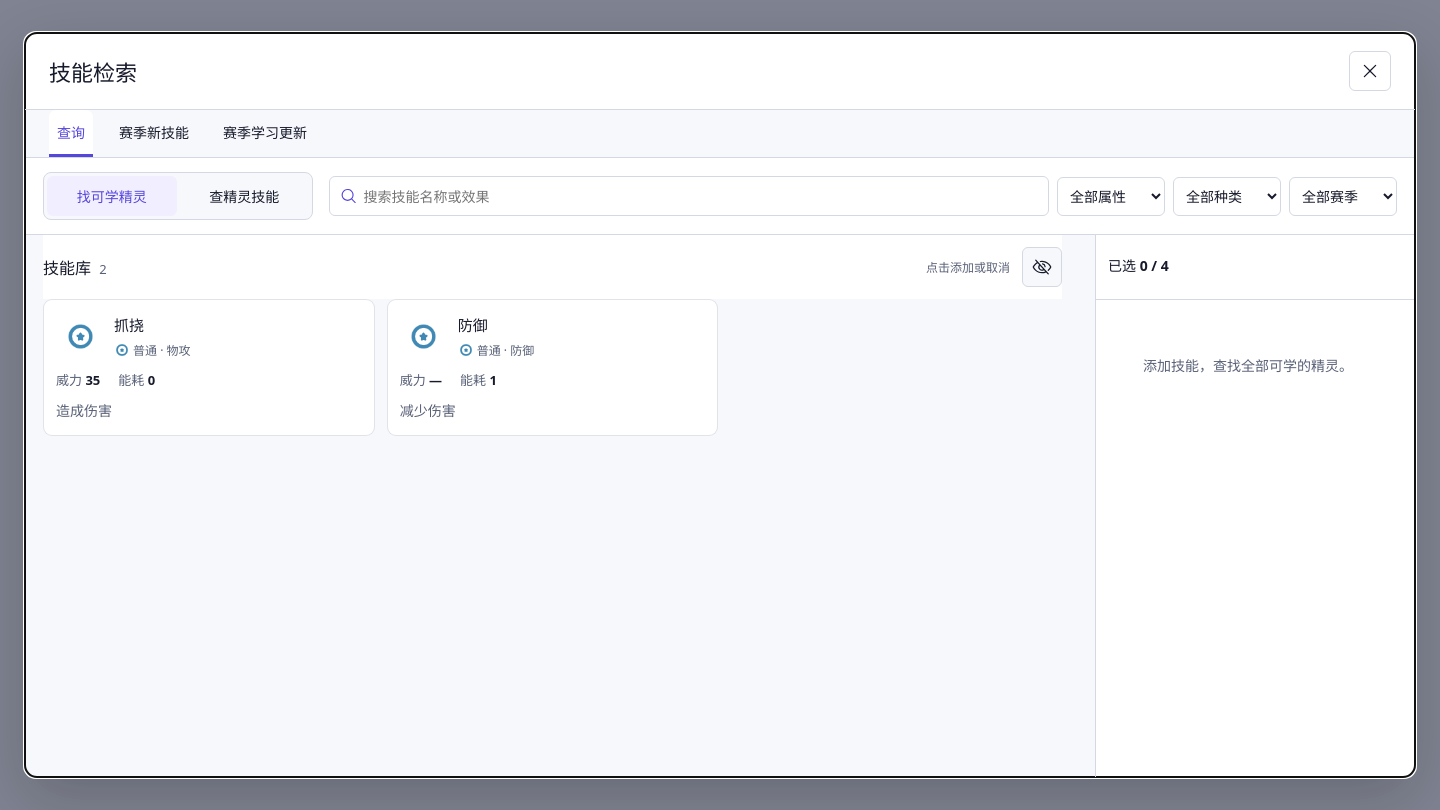
Scenario: 精灵别名查询、来源筛选与空态不伪造学习条件
Click the button "查精灵技能": (244, 196) 180,176 -> 309,216
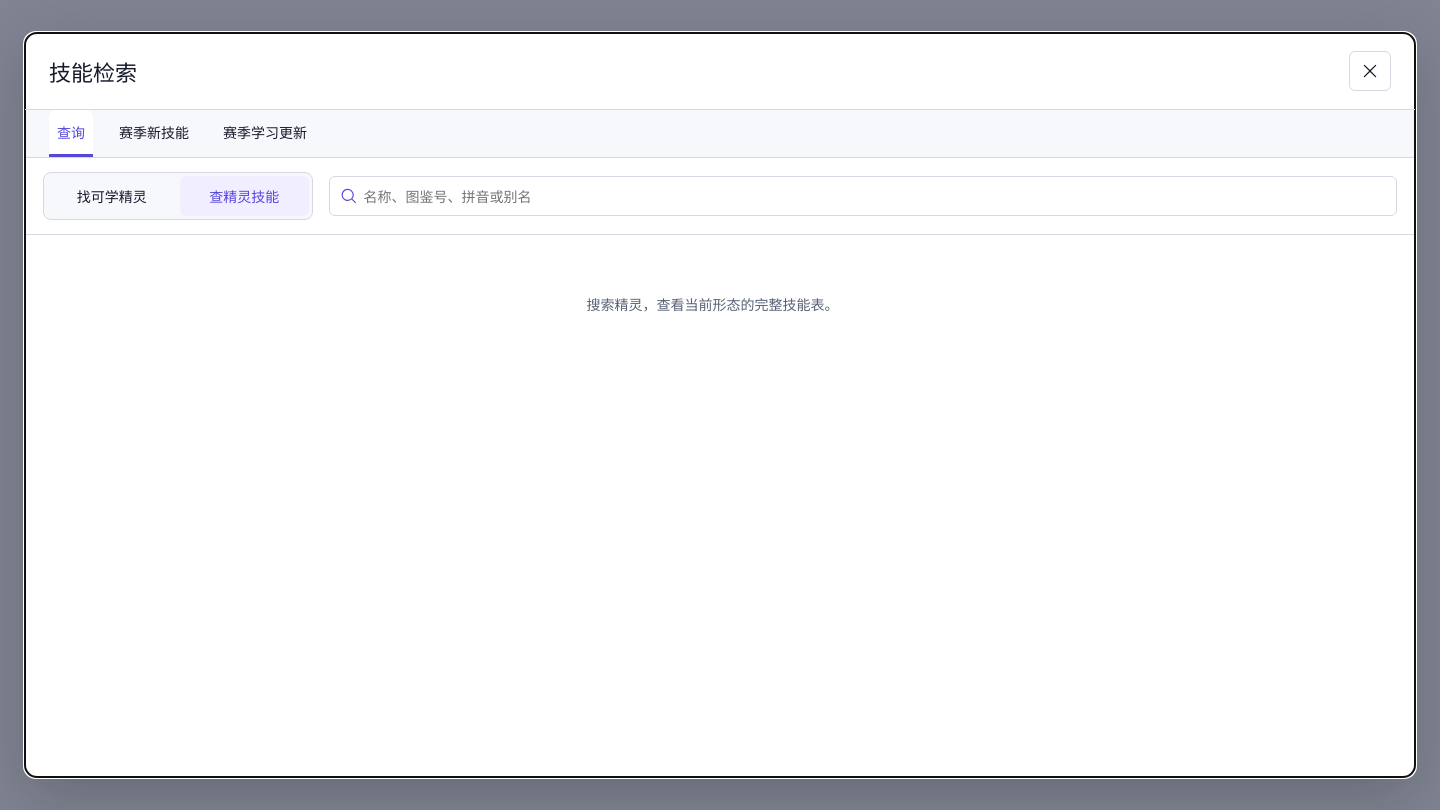
In the field named "搜索技能或精灵": (880, 196) 364,177 -> 1396,215, type "猫猫"
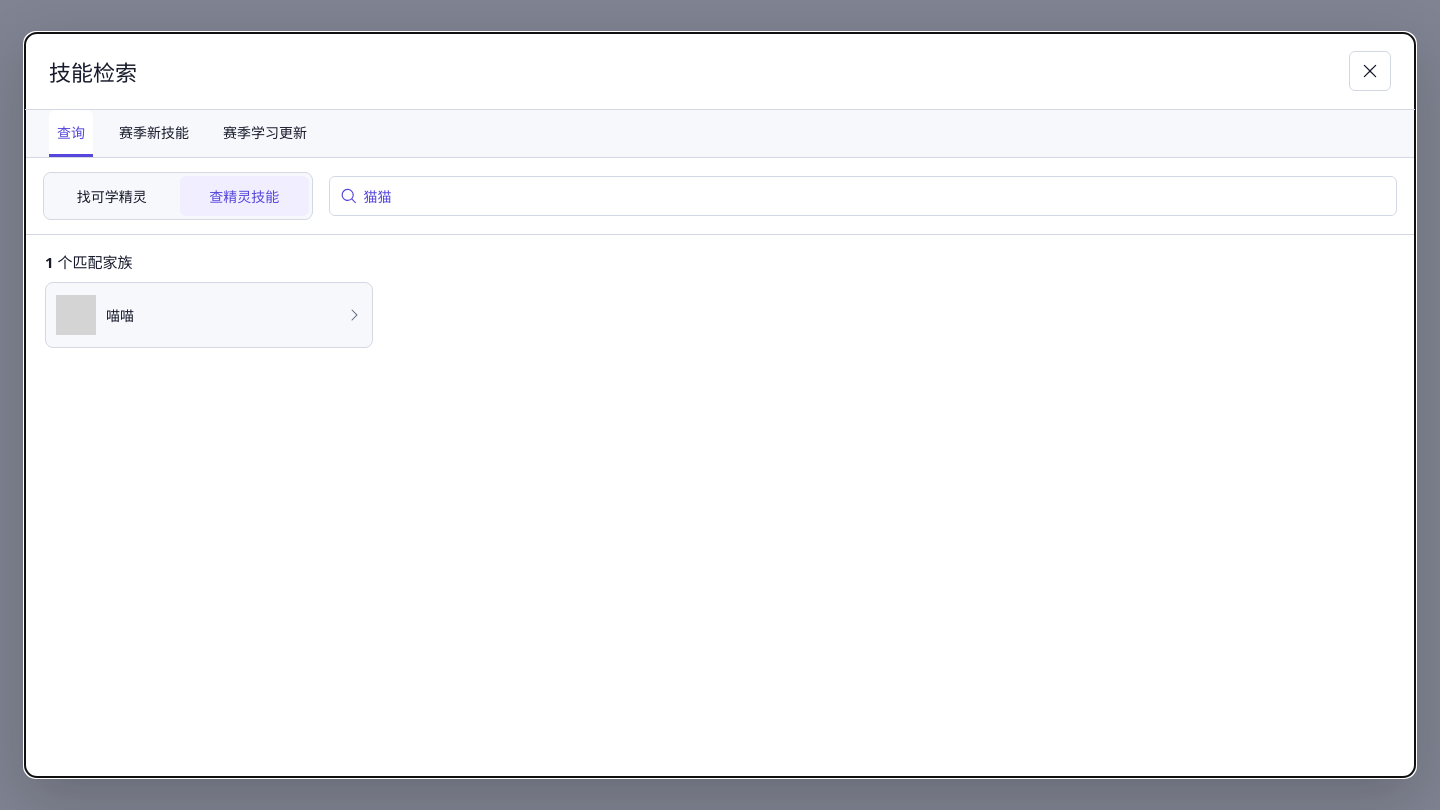
Click the button with aria-label "喵喵 查看技能": (76, 315) 46,283 -> 372,347
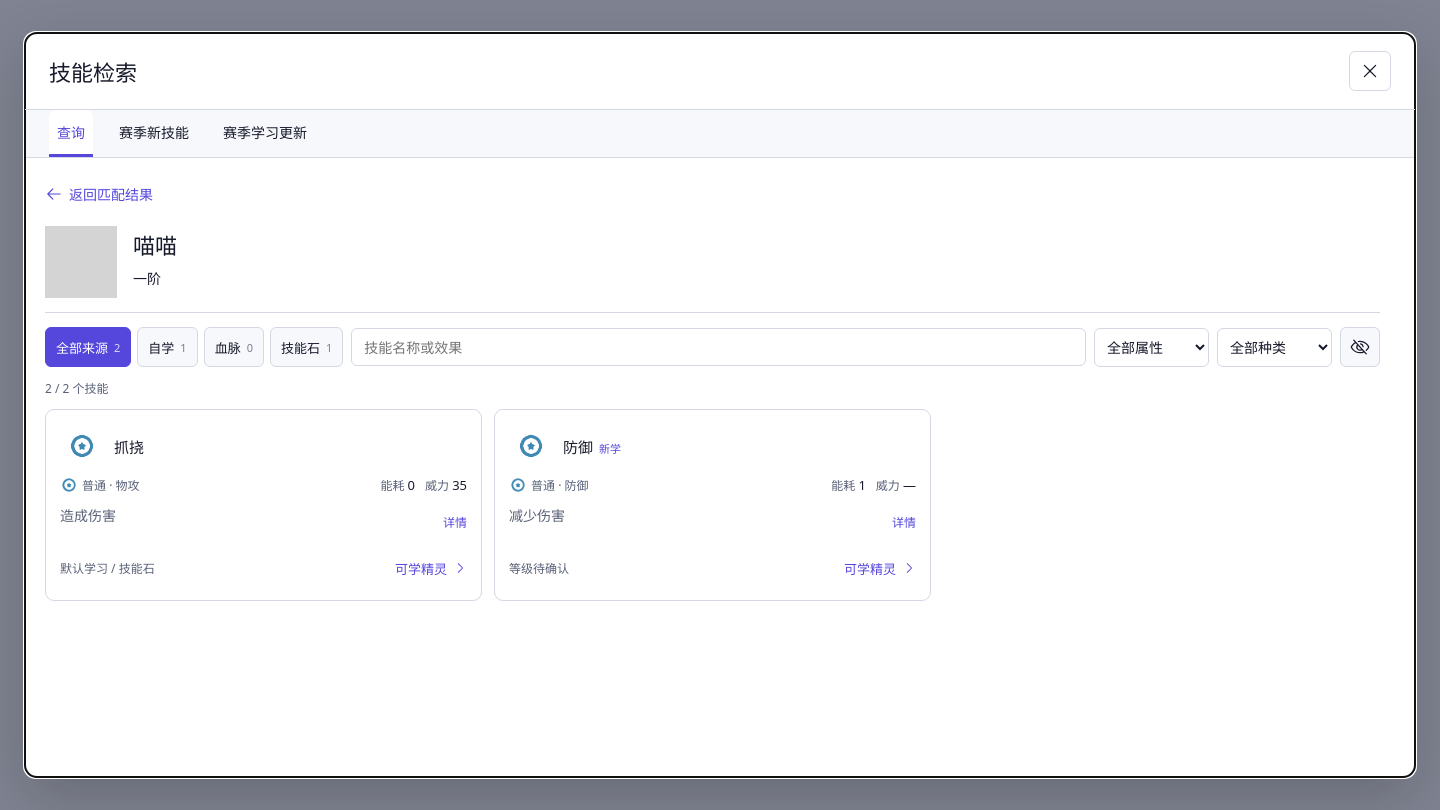
Click the button "自学 1": (167, 347) 137,327 -> 198,367
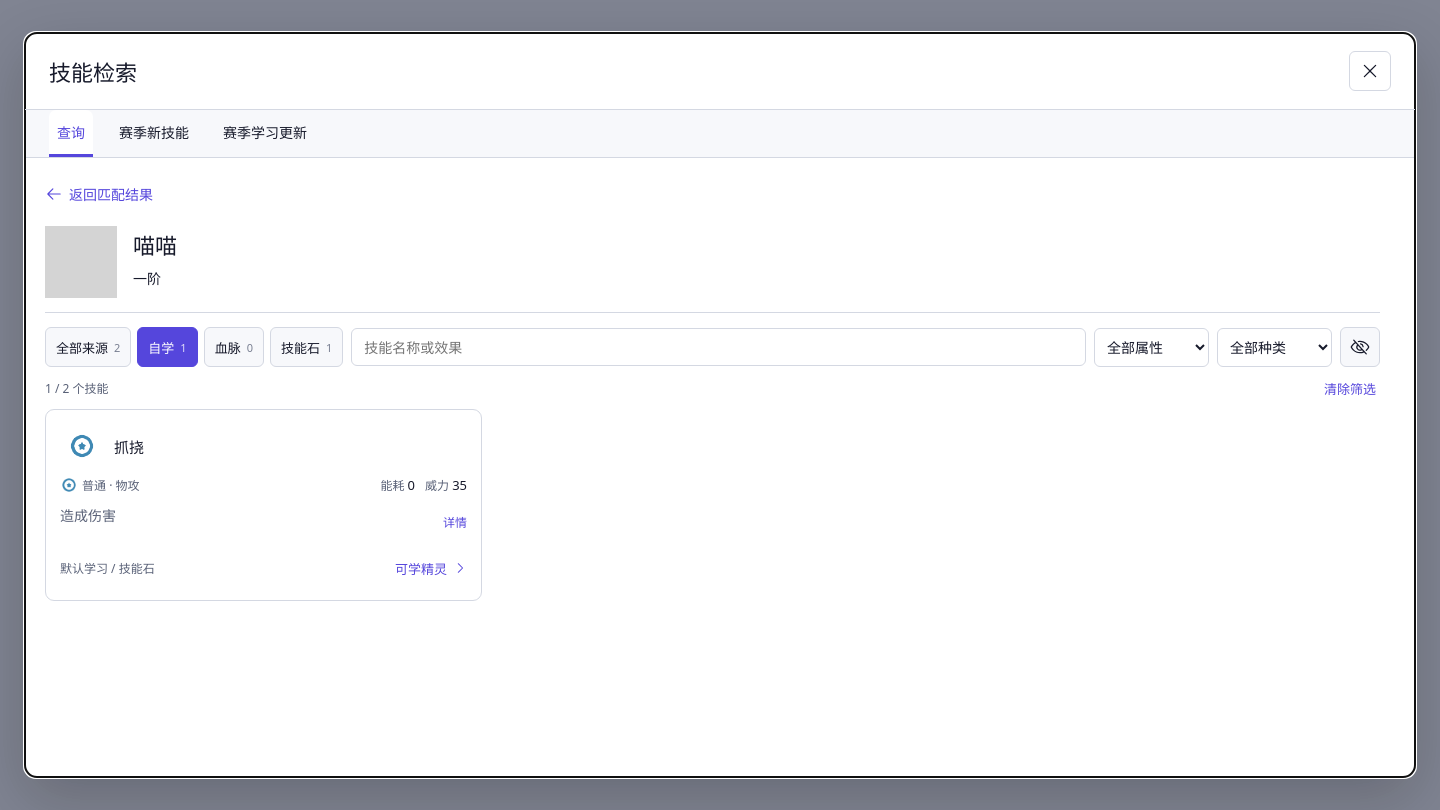
Expected: the button "查看防御详情" is gone
Click the button "血脉 0": (234, 347) 204,327 -> 264,367
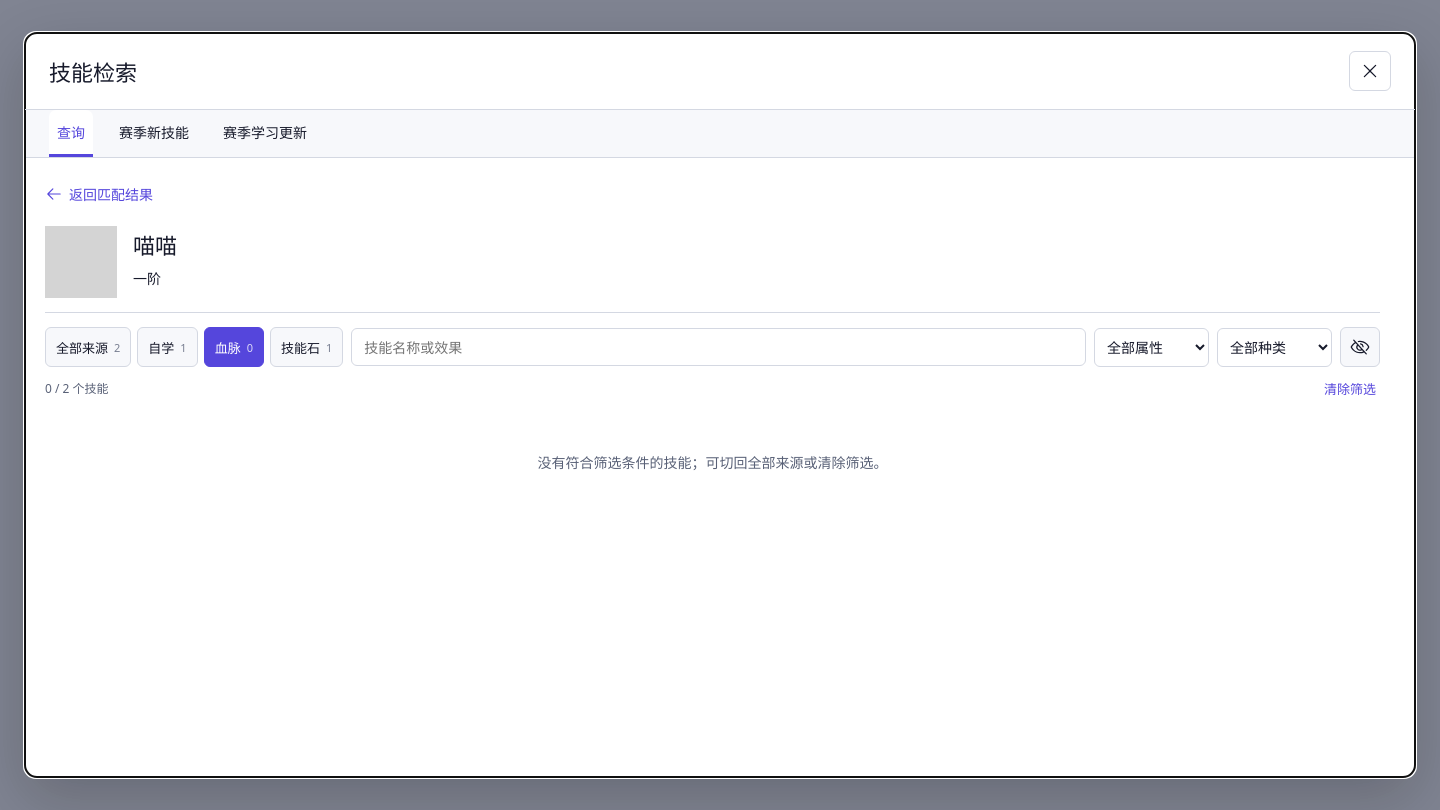
Expected: the text "没有符合筛选条件的技能；可切回全部来源或清除筛选。" is shown, 538,453 -> 888,472
Click the button "全部来源 2": (88, 347) 45,327 -> 131,367
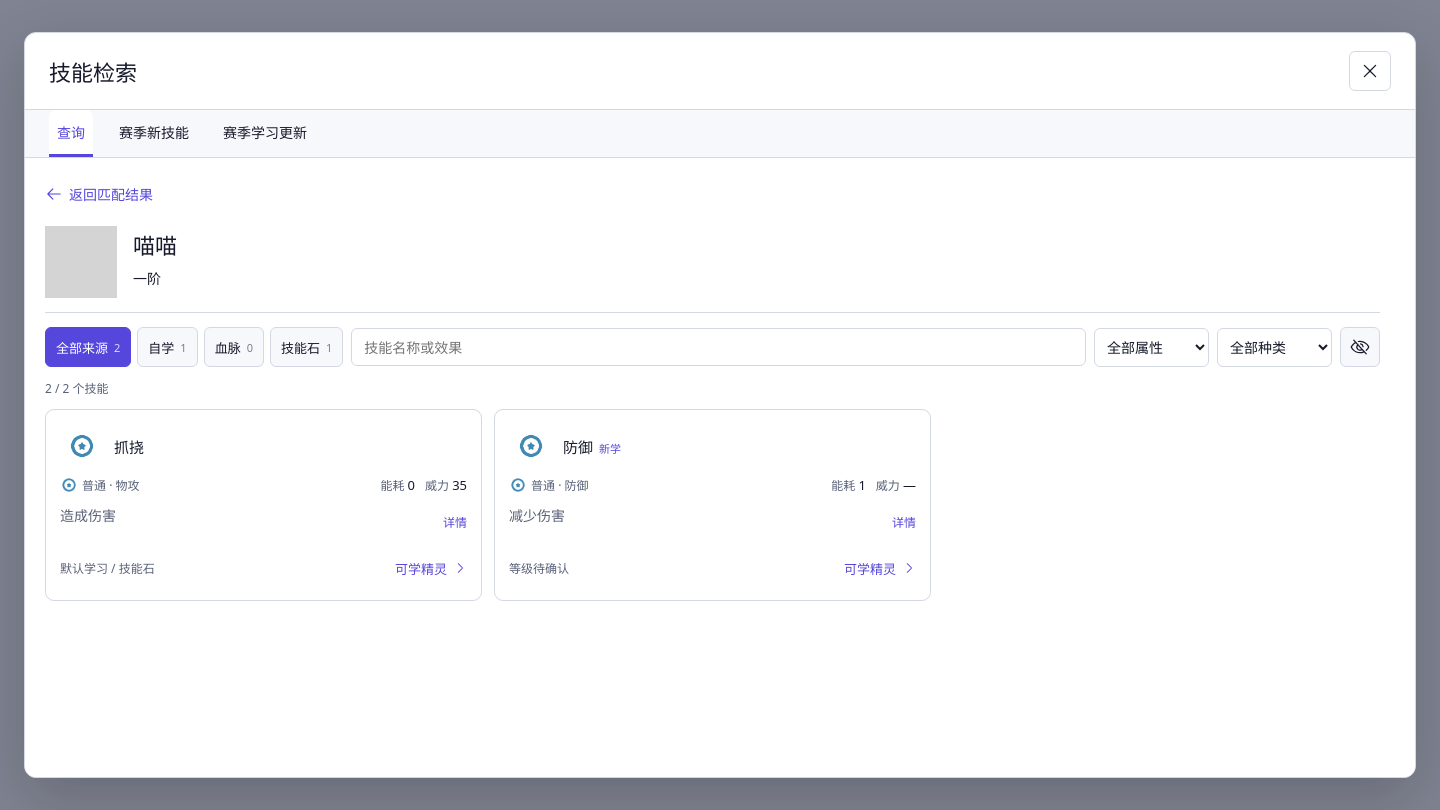
Expected: the text "等级待确认" is shown, 509,559 -> 569,578
